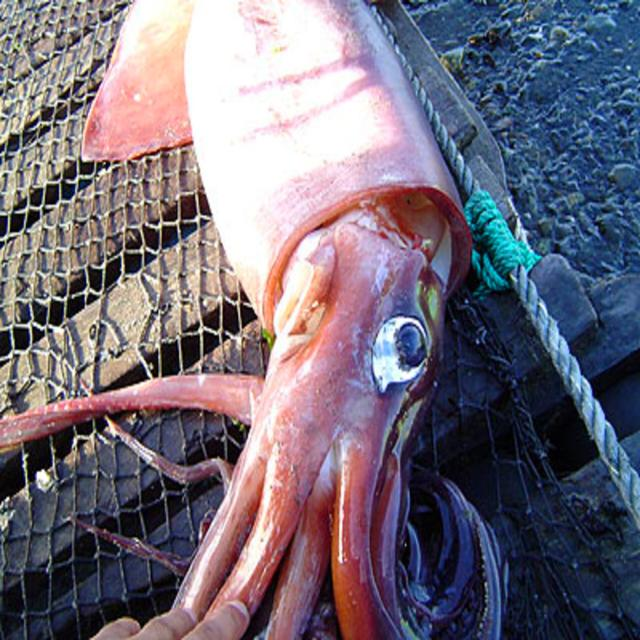squid: (0, 0, 472, 640)
